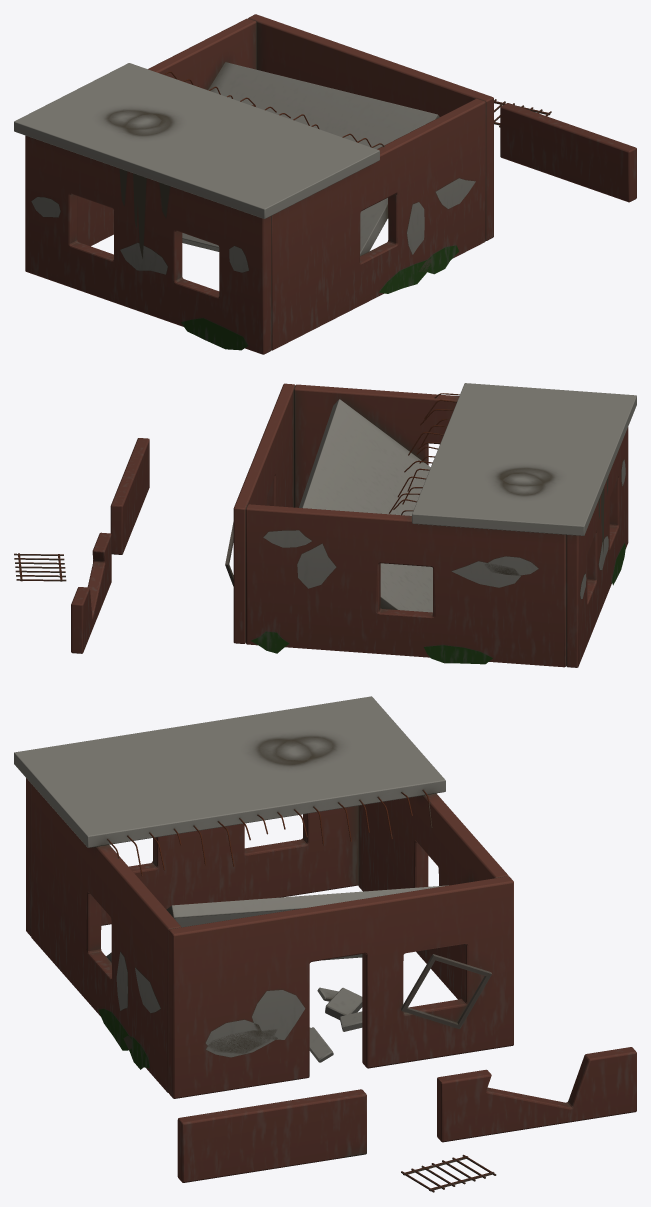
Rendered from casa_d.glb.
3 renders of one model, top to bottom at view 1: azimuth 30°, elevation 25°; view 2: azimuth 150°, elevation 25°; view 3: azimuth 270°, elevation 25°, orthographic. The views are drawn at different scales.
Visible parts, largest first — view 1: g_casa_d; view 2: g_casa_d; view 3: g_casa_d.
Part boxes in pixels (x1,y1,x2,y2): g_casa_d: [14, 14, 636, 354]; g_casa_d: [14, 383, 636, 667]; g_casa_d: [14, 696, 636, 1192].
Size of the model in its own units: 12.59 by 3.39 by 10.26.
Materials: 1 (1 with a texture image).
